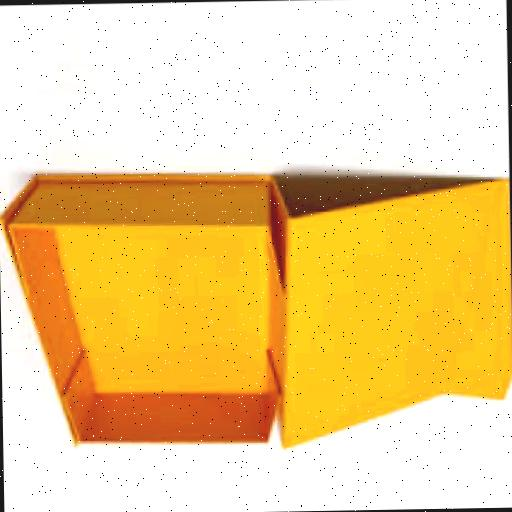cardboard: (1, 165, 512, 456)
